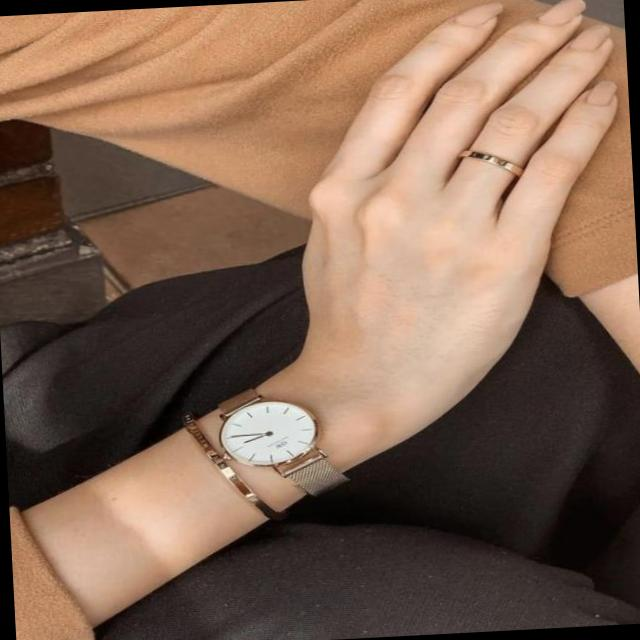Nail: (568, 22, 614, 54), (455, 0, 504, 29), (534, 0, 585, 26), (583, 80, 618, 109)
